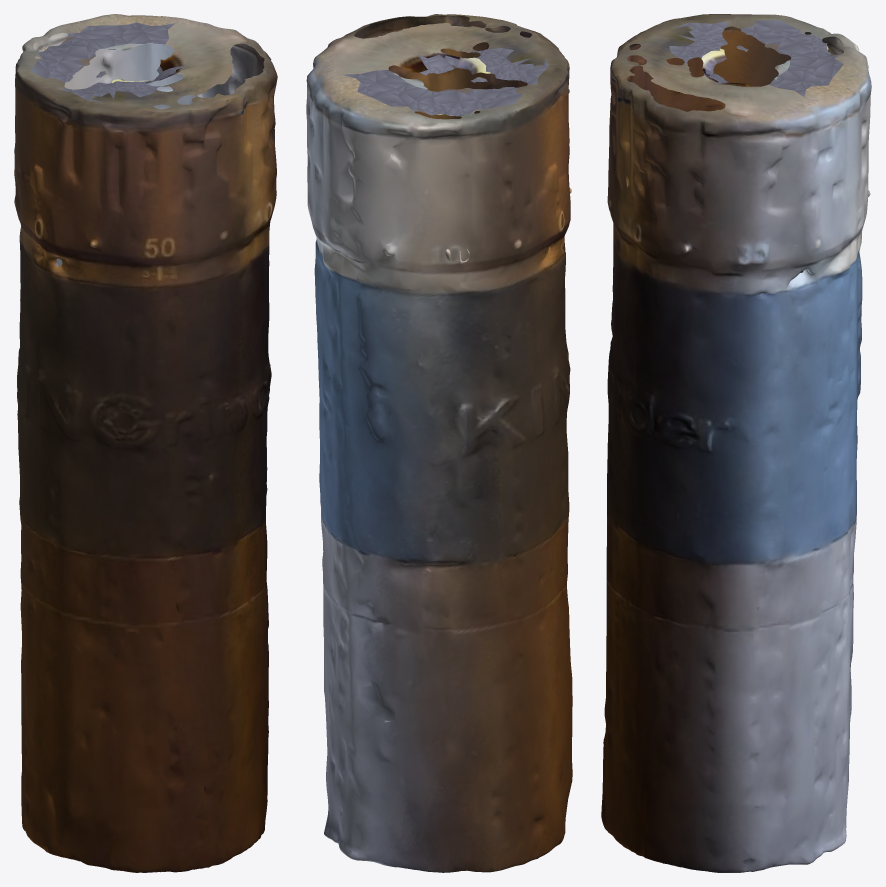
File: mesh_lowpoly.obj
3 renders of one model, left to right at view 1: azimuth 30°, elevation 25°; view 2: azimuth 150°, elevation 25°; view 3: azimuth 270°, elevation 25°, orthographic.
Parts seen in each view (by area): view 1: mesh_lowpoly; view 2: mesh_lowpoly; view 3: mesh_lowpoly.
Part boxes in pixels (x1,y1,x2,y2): mesh_lowpoly: [14, 14, 277, 872]; mesh_lowpoly: [306, 14, 572, 872]; mesh_lowpoly: [601, 14, 871, 872].
Bounding box in the file's own units: 0.5757 × 1.83 × 0.5883.
Materials: 4 (4 with a texture image).
